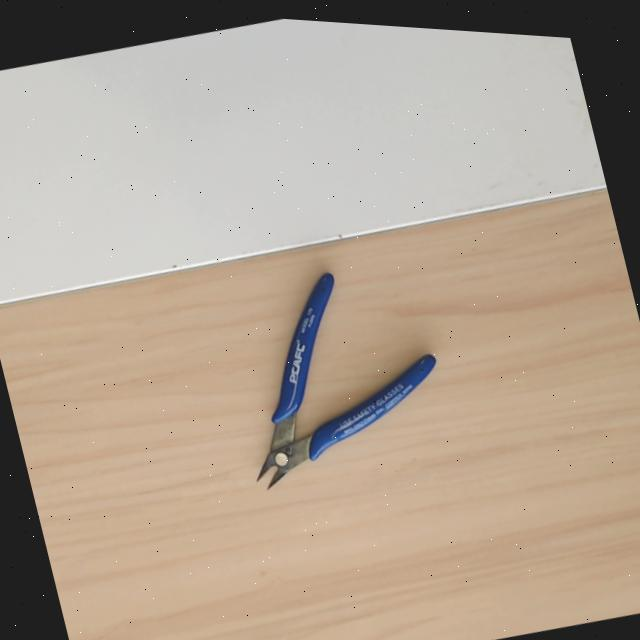Tang-Potong-Biru: (195, 269, 439, 523)
